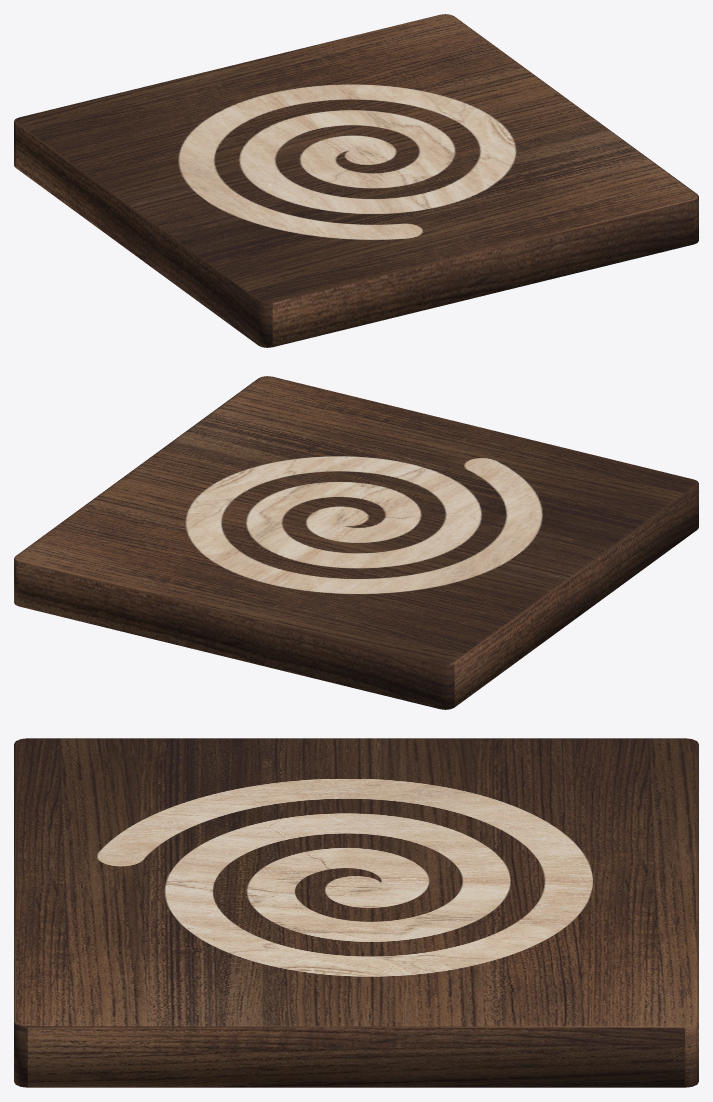
The model's file is spring head.fbx.
The picture shows the model from 3 angles, top to bottom: view 1: azimuth 30°, elevation 25°; view 2: azimuth 150°, elevation 25°; view 3: azimuth 270°, elevation 25°; orthographic projection. The views are drawn at different scales.
Parts seen in each view (by area): view 1: spring head; view 2: spring head; view 3: spring head.
Boxes of the visible parts, x1=… form: spring head: x1=14, y1=14, x2=698, y2=347; spring head: x1=14, y1=376, x2=698, y2=709; spring head: x1=14, y1=738, x2=698, y2=1087.
Bounding box in the file's own units: 177 × 17.75 × 177.
